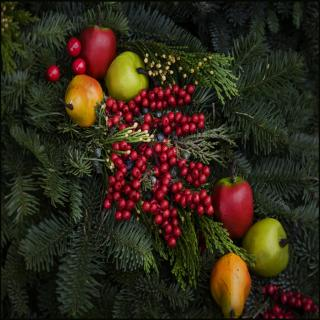Apple: (212, 158, 256, 240), (243, 216, 303, 276), (101, 51, 147, 100), (78, 24, 117, 80)
